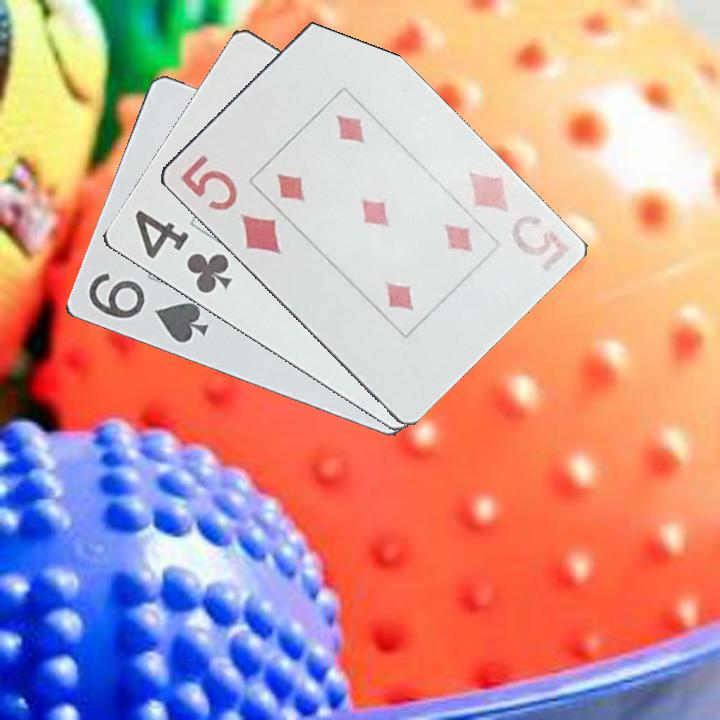4c: (130, 206, 235, 297)
5d: (176, 151, 283, 257), (463, 168, 558, 260)
6s: (84, 269, 212, 348)
